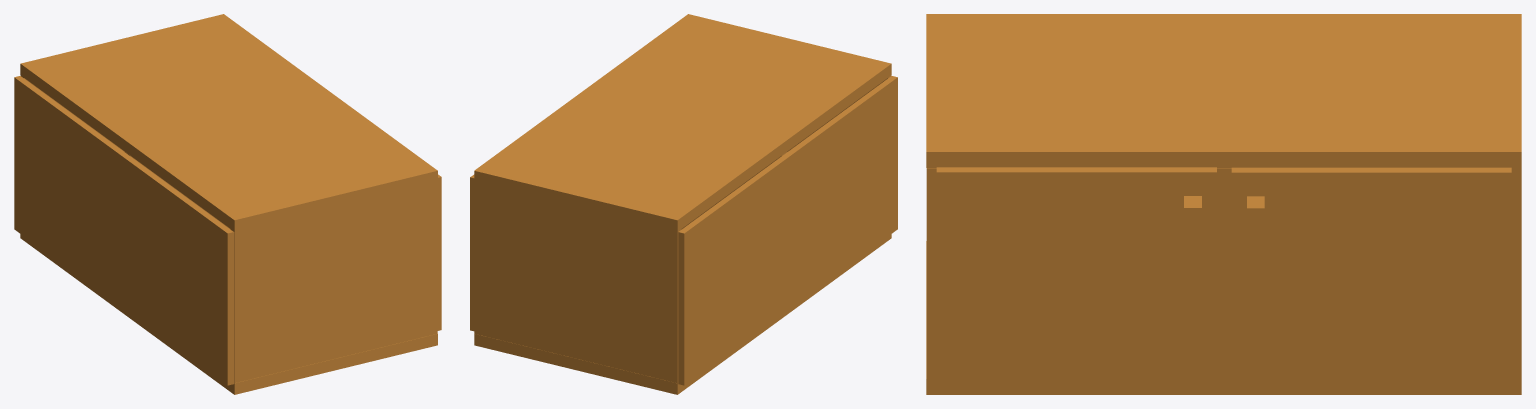
Rendered from tumba.fbx.
The picture shows the model from 3 angles, left to right: view 1: azimuth 30°, elevation 25°; view 2: azimuth 150°, elevation 25°; view 3: azimuth 270°, elevation 25°; orthographic projection. The views are drawn at different scales.
Visible parts, largest first — view 1: Куб.003, Куб.004, Куб.001, Куб, Куб.006; view 2: Куб.003, Куб.004, Куб.002, Куб, Куб.009; view 3: Куб.003, Куб.009, Куб.006, Куб, Куб.005, Куб.001, Куб.002, Куб.008, Куб.007.
Boxes of the visible parts, x1,y1,x2,y2 form: Куб.003: (20, 14, 437, 231); Куб.004: (14, 76, 233, 385); Куб.001: (230, 182, 437, 383); Куб: (20, 234, 437, 394); Куб.006: (437, 174, 441, 330); Куб.003: (474, 14, 891, 231); Куб.004: (678, 76, 897, 385); Куб.002: (474, 182, 681, 383); Куб: (474, 234, 891, 394); Куб.009: (470, 174, 474, 331); Куб.003: (926, 14, 1521, 167); Куб.009: (1231, 167, 1511, 385); Куб.006: (936, 167, 1216, 385); Куб: (926, 241, 1521, 394); Куб.005: (1217, 168, 1231, 378); Куб.001: (926, 168, 936, 378); Куб.002: (1511, 168, 1521, 378); Куб.008: (1247, 196, 1264, 264); Куб.007: (1184, 196, 1201, 264).
Size of the model in its own units: 51.38 by 36.43 by 80.94.
